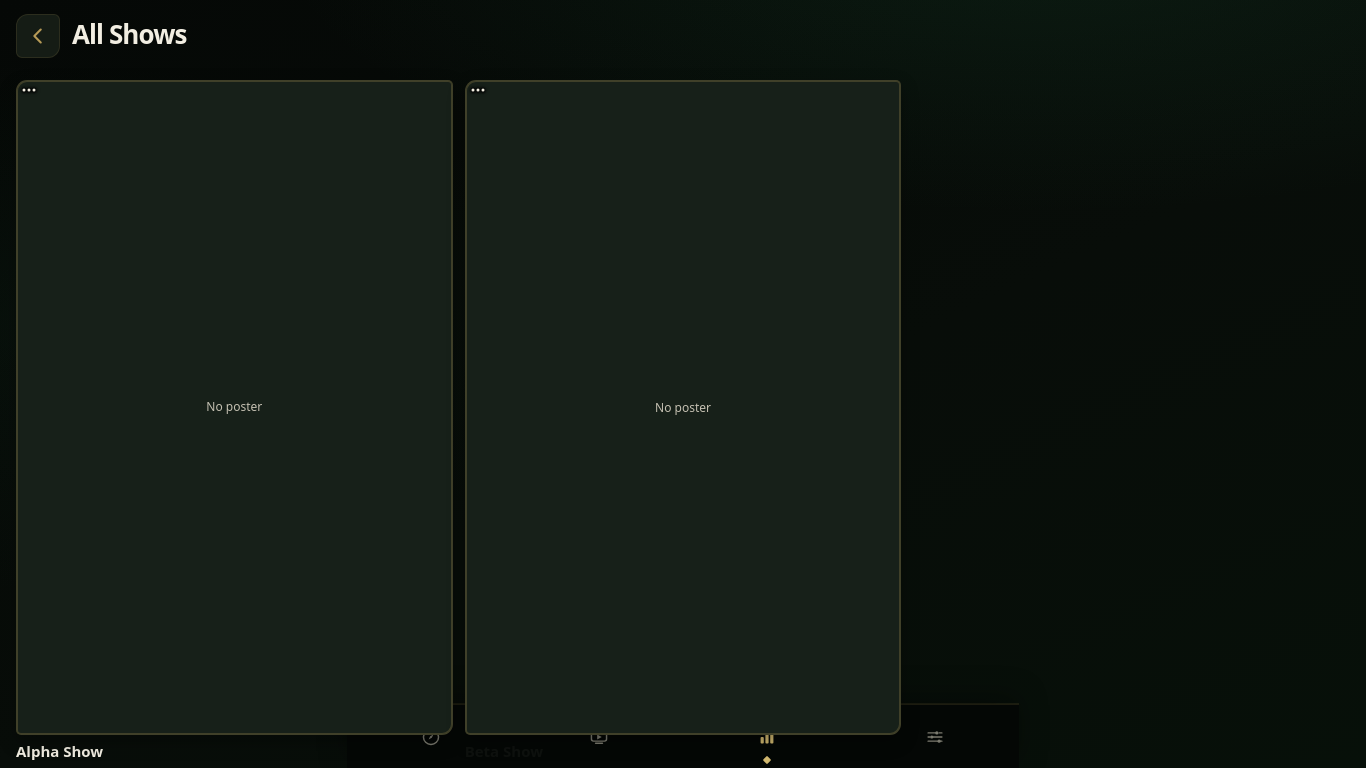
Test: Stats + StatsAllShows integration — actions update shared state › restoring a finished show from /stats/all updates the shared show and shows a success banner
Click the button named "Actions for Beta Show" at (487, 102), box [465, 80, 509, 124]
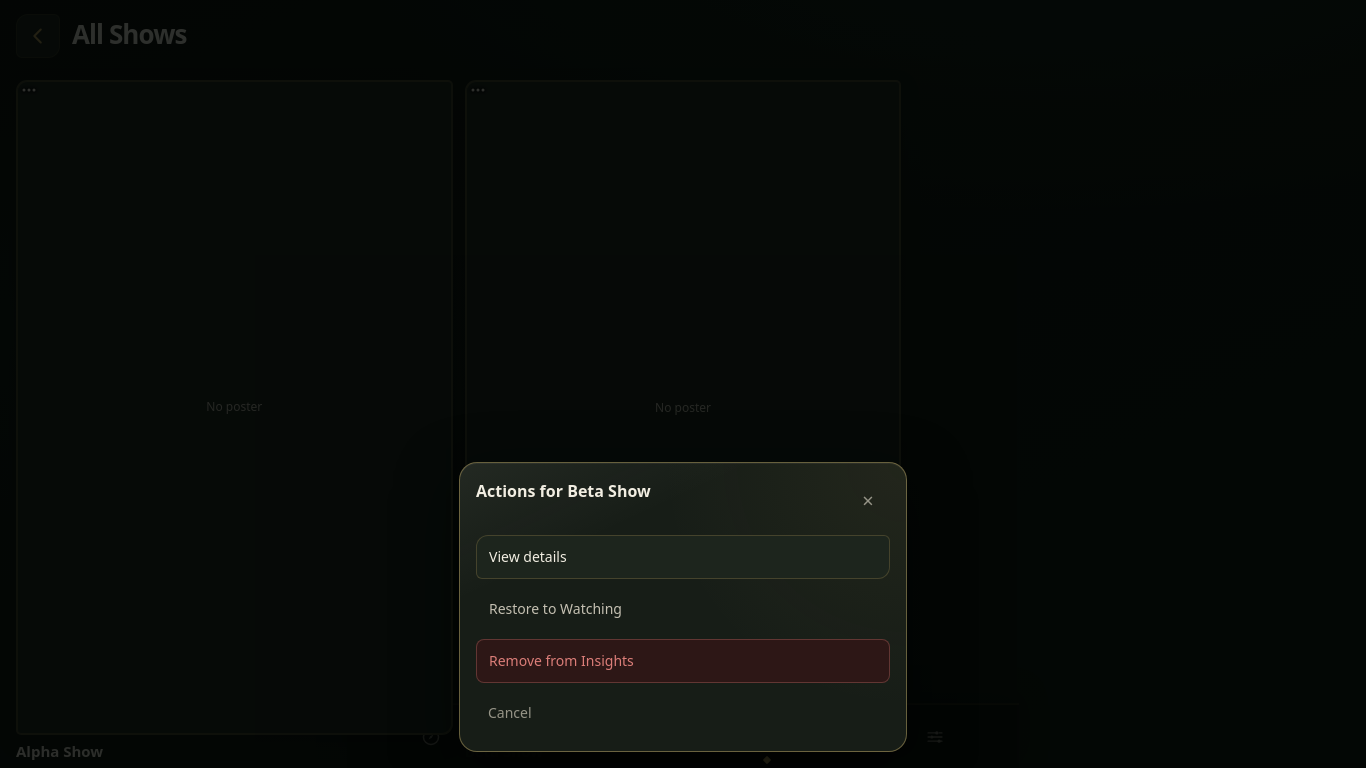
Click the button "Restore to Watching" at (555, 608), box [476, 587, 890, 631]
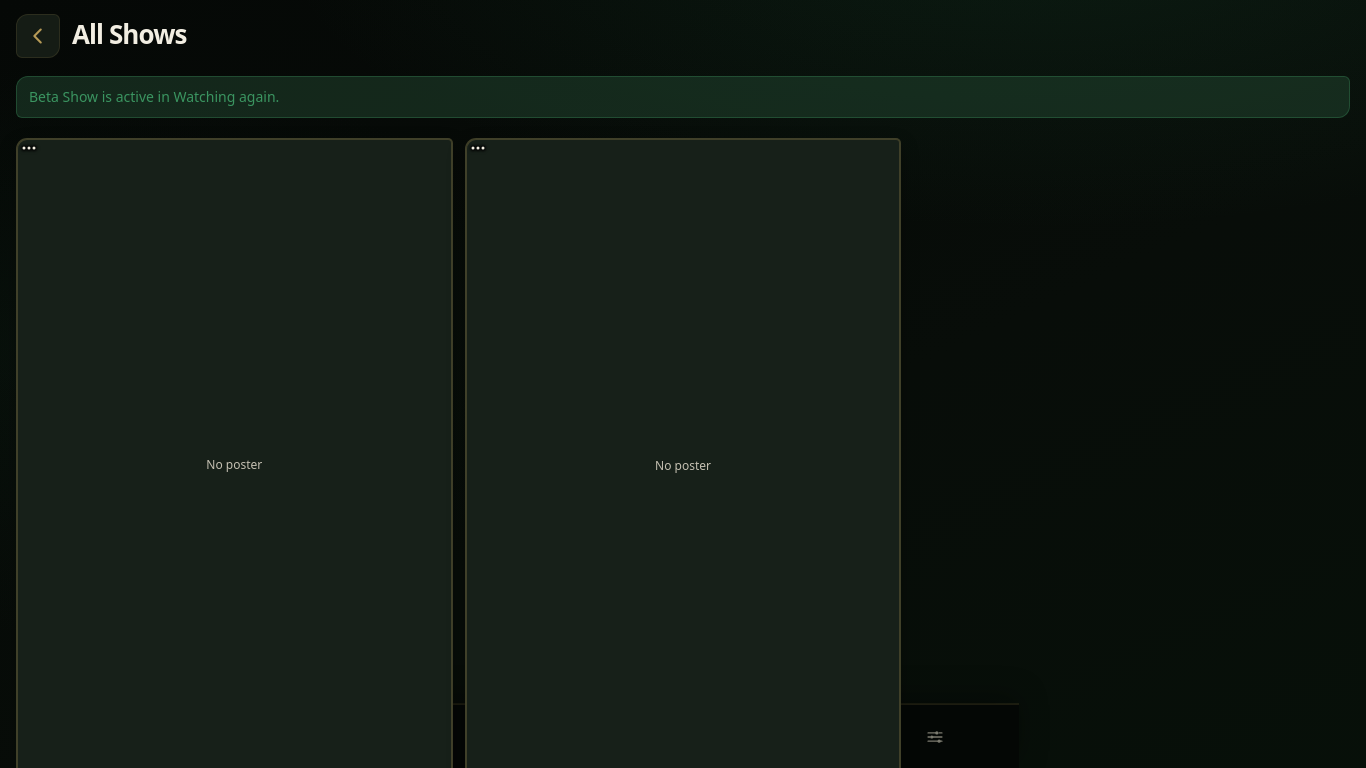
Expected: the text "Beta Show is active in Watching again." is shown, [16, 76, 1350, 118]
